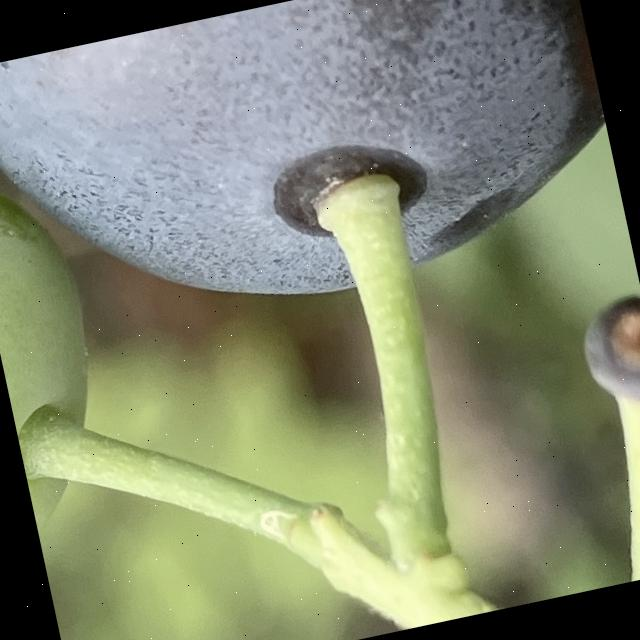Blueberries: (0, 0, 628, 363)
